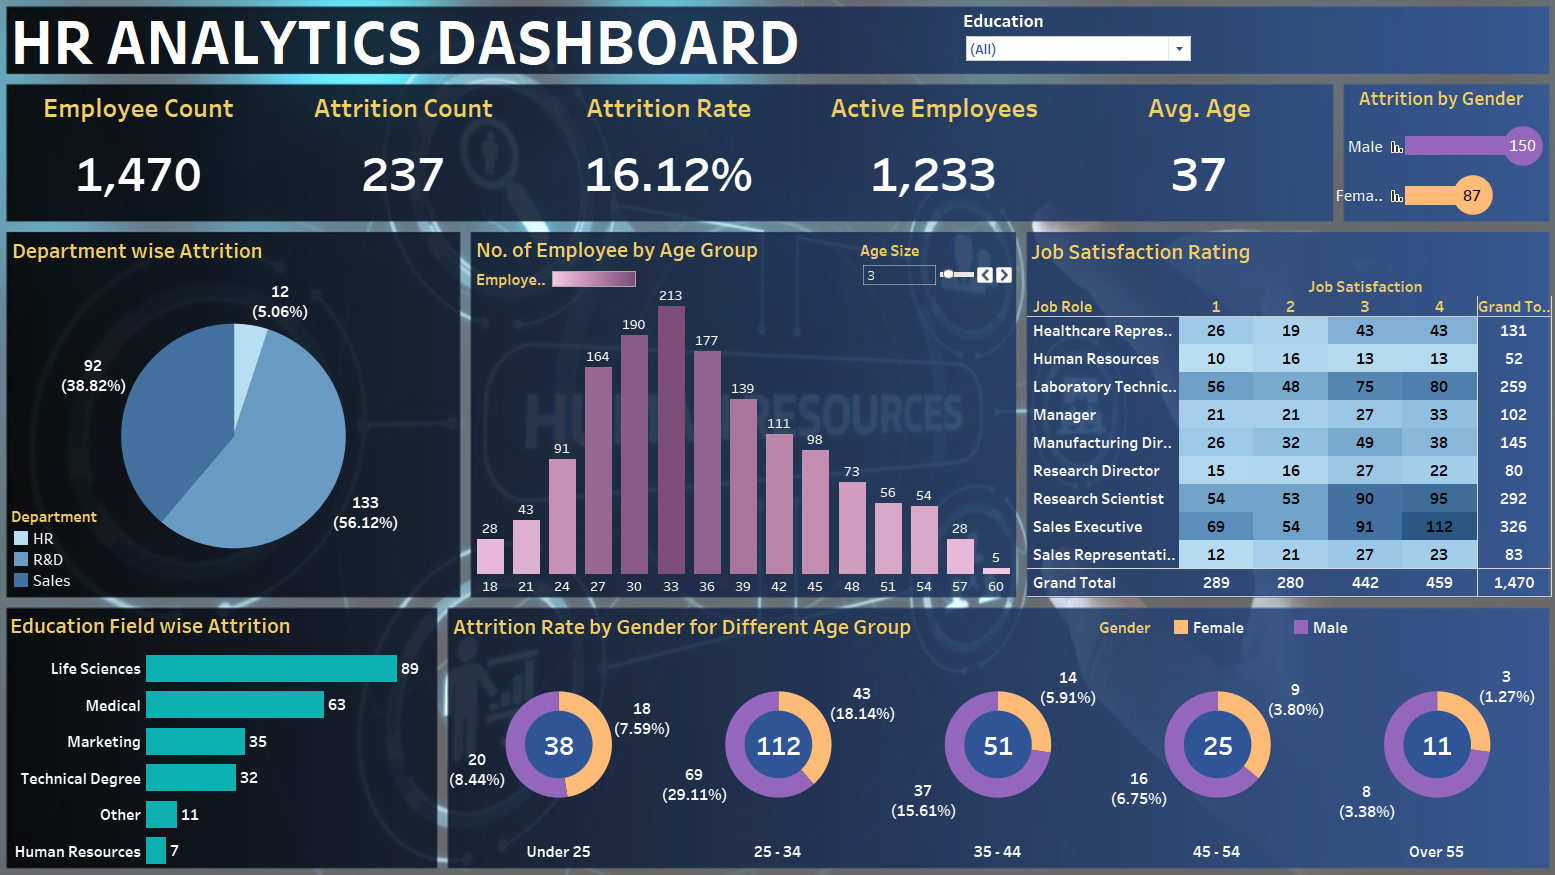

The dashboard page shown, as its layout file describes it:
{"tool":"tableau","page":{"name":"HR Dashboard ","canvas":[1580,900],"ordinal":0},"visuals":[{"type":"image","param":"Image/HR background.pptx.png","box":[8,8,1564,884]},{"type":"text","box":[19,19,1028,65]},{"type":"filter","title":"Department wise Attrition","param":"[federated.0f0h03p1it3gvo176rhln1y1tx4v].[none:Education:nk]","box":[975,21,231,62]},{"type":"worksheet","title":"Attrition by Gender","mark":"Automatic","rows":["Gender"],"cols":["Calculation_231935388807032832","Calculation_231935388807032832"],"box":[1345,93,216,139]},{"type":"worksheet","title":"KPI","mark":"Automatic","box":[18,96,1326,136]},{"type":"worksheet","title":"No. of Employee by Age Group","mark":"Automatic","rows":["Employee Count"],"cols":["Age (bin)"],"box":[484,243,543,365]},{"type":"worksheet","title":"Department wise Attrition","mark":"Pie","box":[20,244,451,365]},{"type":"worksheet","title":"Job Satisfaction Rating","mark":"Square","rows":["Job Role"],"cols":["Job Satisfaction"],"box":[1039,245,525,364]},{"type":"parameter","param":"[Parameters].[Age Parameter]","box":[872,252,155,49]},{"type":"legend","title":"No. of Employee by Age Group","param":"[federated.0f0h03p1it3gvo176rhln1y1tx4v].[sum:Employee Count:qk]","box":[488,279,164,24]},{"type":"legend","title":"Department wise Attrition","param":"[federated.0f0h03p1it3gvo176rhln1y1tx4v].[none:Department:nk]","box":[23,518,140,85]},{"type":"worksheet","title":"Education Field wise Attrition","mark":"Automatic","rows":["Education Field"],"cols":["Calculation_231935388807032832"],"box":[18,619,431,262]},{"type":"worksheet","title":"Attrition Rate by Gender for Different Age Group","mark":"Pie","rows":["Calculation_1302666200262176769","Calculation_1302666200262176769"],"cols":["CF_age band"],"box":[461,620,1098,255]},{"type":"legend","title":"Attrition Rate by Gender for Different Age Group","param":"[federated.0f0h03p1it3gvo176rhln1y1tx4v].[none:Gender:nk]","box":[1111,629,381,31]}]}

Visuals, with their boxes in screenshot pixels (x1, y1, x2, y2), scaled from the page's 1580x900 canvas onto the 1555x875 screenshot:
image: 8, 8, 1547, 867
text: 19, 18, 1030, 82
"Department wise Attrition" filter: 960, 20, 1187, 81
"Attrition by Gender" worksheet: 1324, 90, 1536, 226
"KPI" worksheet: 18, 93, 1323, 226
"No. of Employee by Age Group" worksheet: 476, 236, 1011, 591
"Department wise Attrition" worksheet (Pie marks): 20, 237, 464, 592
"Job Satisfaction Rating" worksheet (Square marks): 1023, 238, 1539, 592
parameter: 858, 245, 1011, 293
"No. of Employee by Age Group" legend: 480, 271, 642, 295
"Department wise Attrition" legend: 23, 504, 160, 586
"Education Field wise Attrition" worksheet: 18, 602, 442, 857
"Attrition Rate by Gender for Different Age Group" worksheet (Pie marks): 454, 603, 1534, 851
"Attrition Rate by Gender for Different Age Group" legend: 1093, 612, 1468, 642
